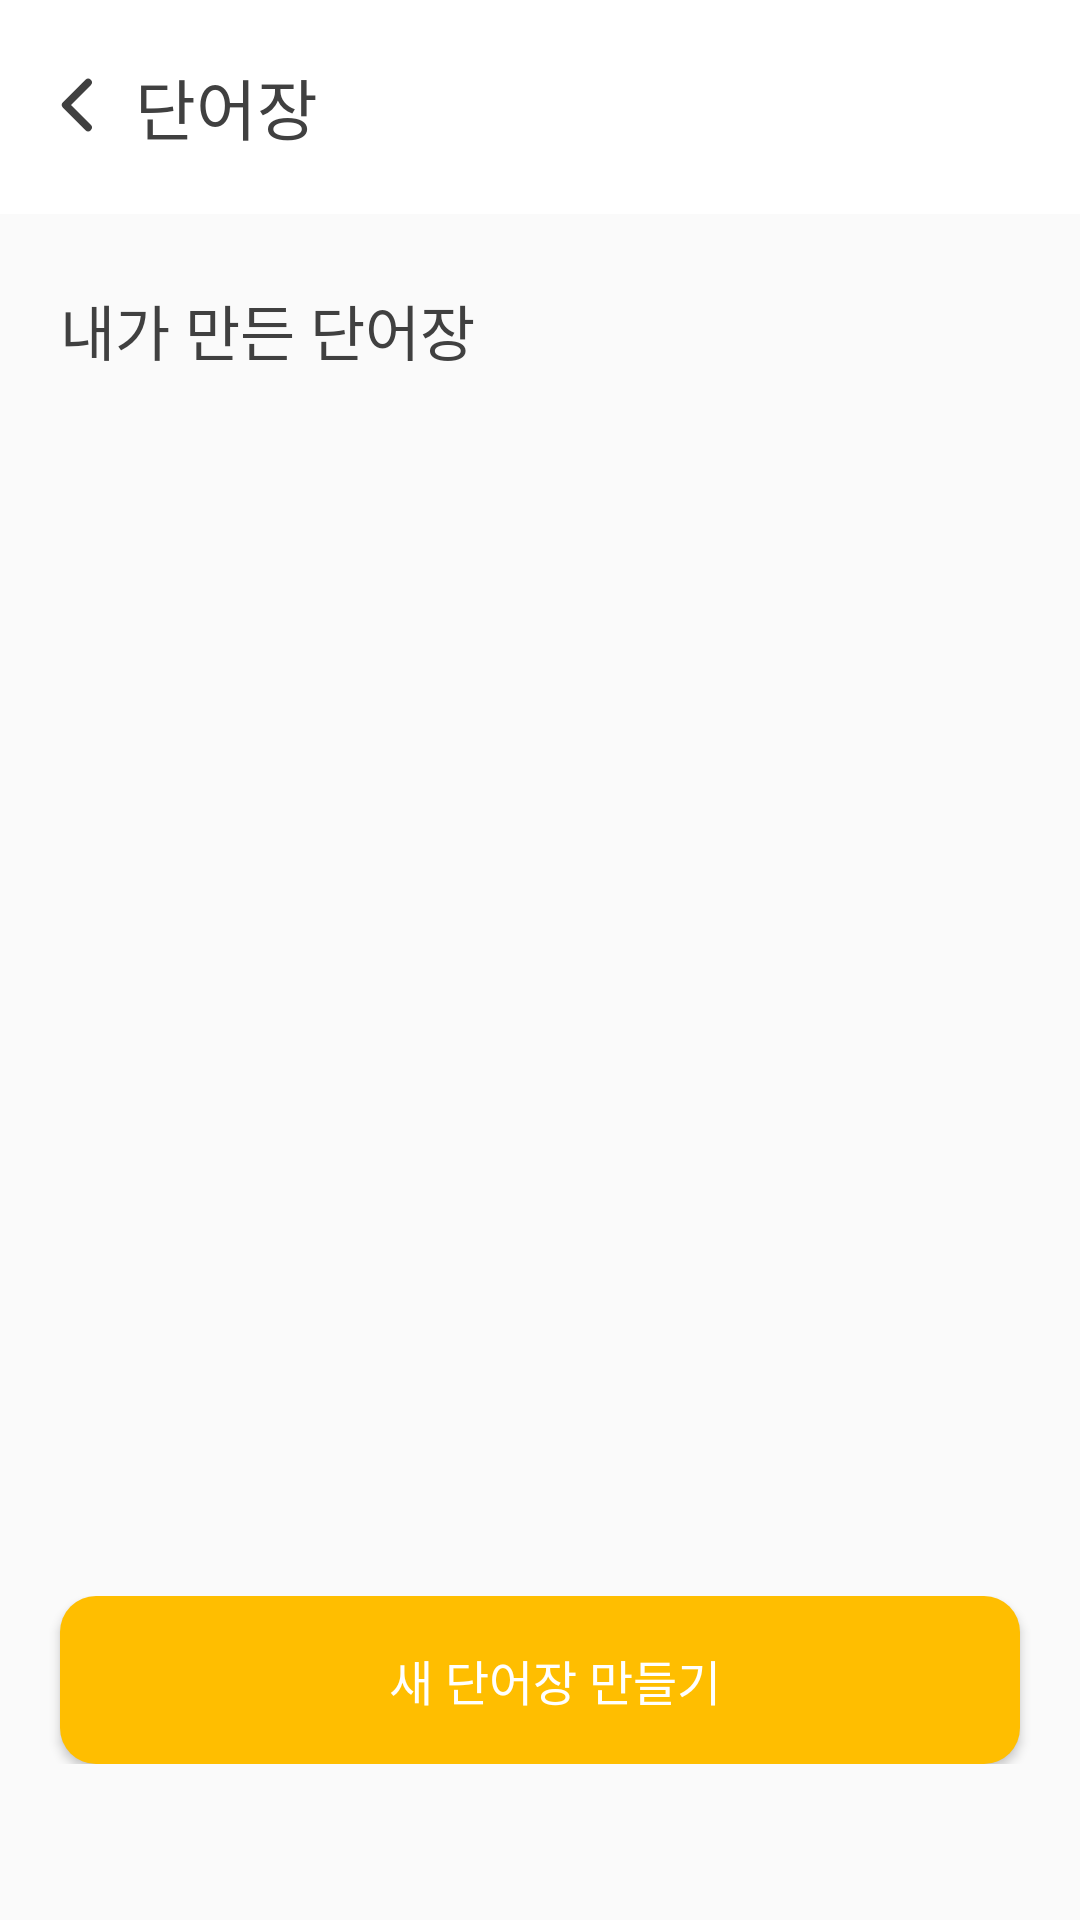

Where to tap for icons on this 1080 × 1920 app screen, as [x,y]:
back: [76,105]
